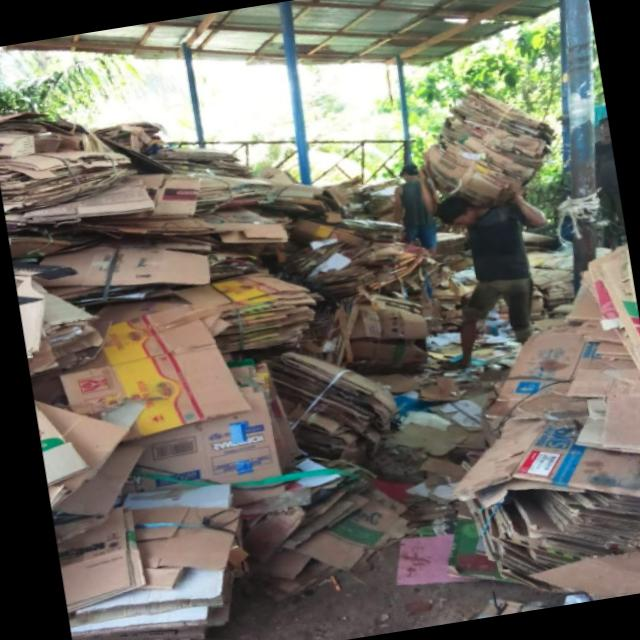Kardus: (0, 53, 441, 504), (420, 244, 640, 619), (50, 478, 267, 640), (410, 75, 568, 218)
